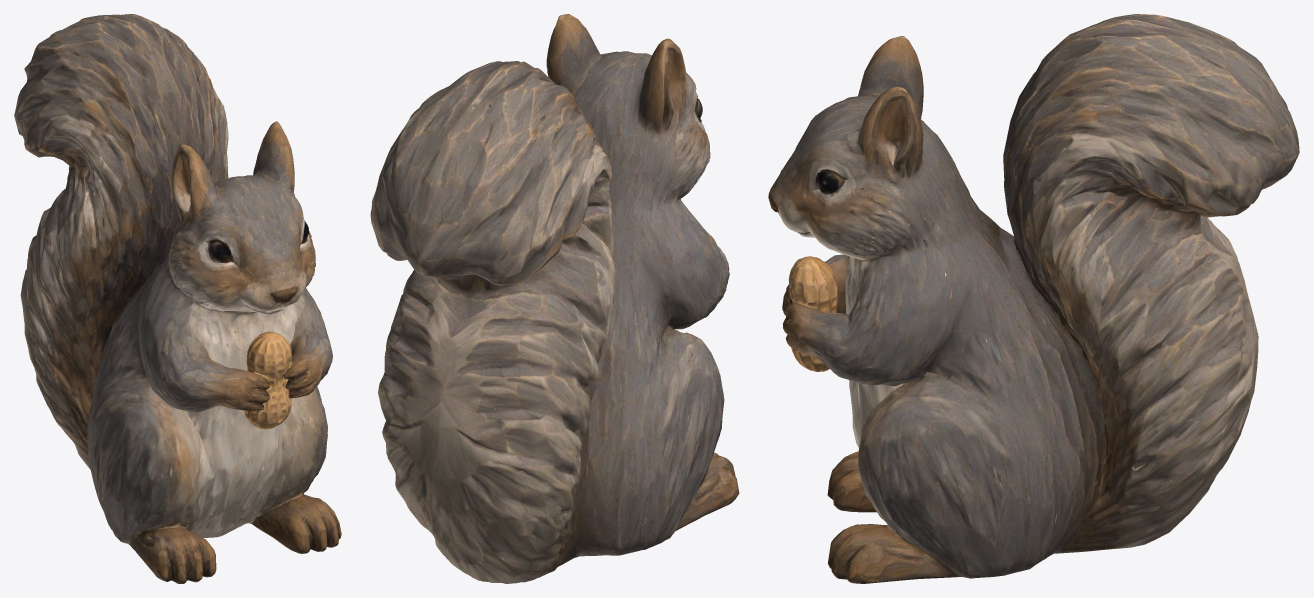
Rendered from squirrel.glb.
3 views of the same model, side by side, from view 1: azimuth 30°, elevation 25°; view 2: azimuth 150°, elevation 25°; view 3: azimuth 270°, elevation 25° (orthographic). The views are drawn at different scales.
Visible parts, largest first — view 1: Mesh_0; view 2: Mesh_0; view 3: Mesh_0.
Boxes of the visible parts, x1,y1,x2,y2 form: Mesh_0: (14,14,341,583); Mesh_0: (370,14,739,583); Mesh_0: (768,14,1299,583).
Bounding box in the file's own units: 0.1144 × 0.25 × 0.2336.
1 material, 1 textured.
